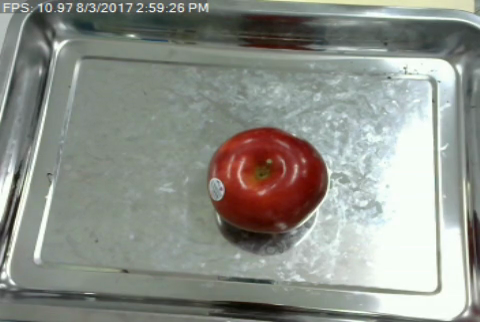Apple: (206, 124, 331, 240)
